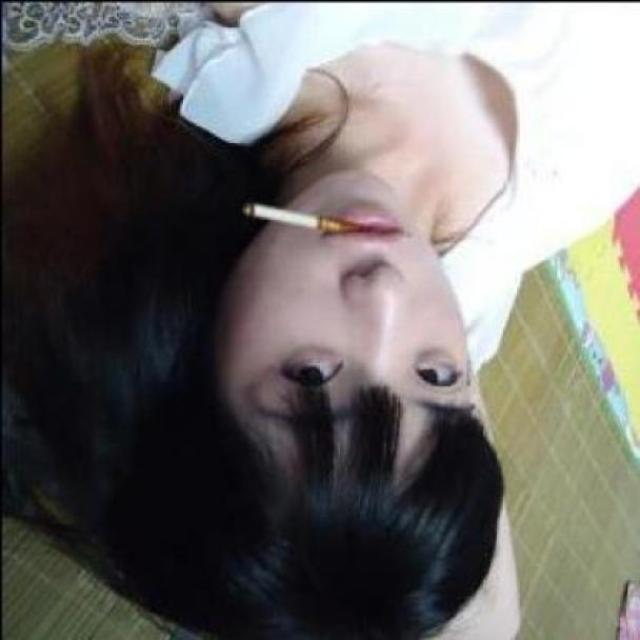rokok: (235, 193, 391, 244)
